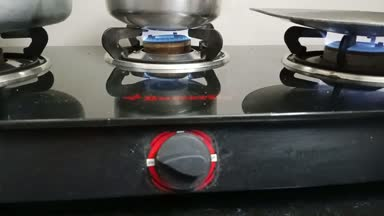flame_gas_on: (118, 20, 220, 189), (292, 22, 384, 79)
